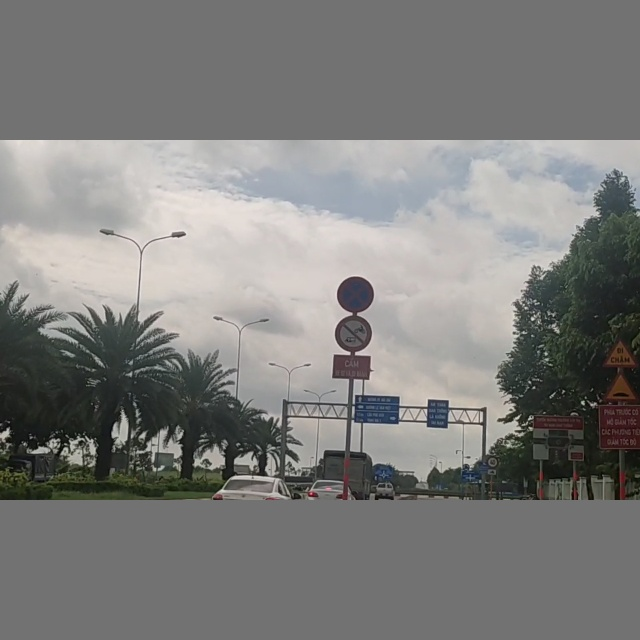P.111: (335, 315, 373, 352)
P.130: (333, 276, 376, 314)
W.221b: (604, 373, 639, 403)
W.245a: (602, 339, 637, 369)
